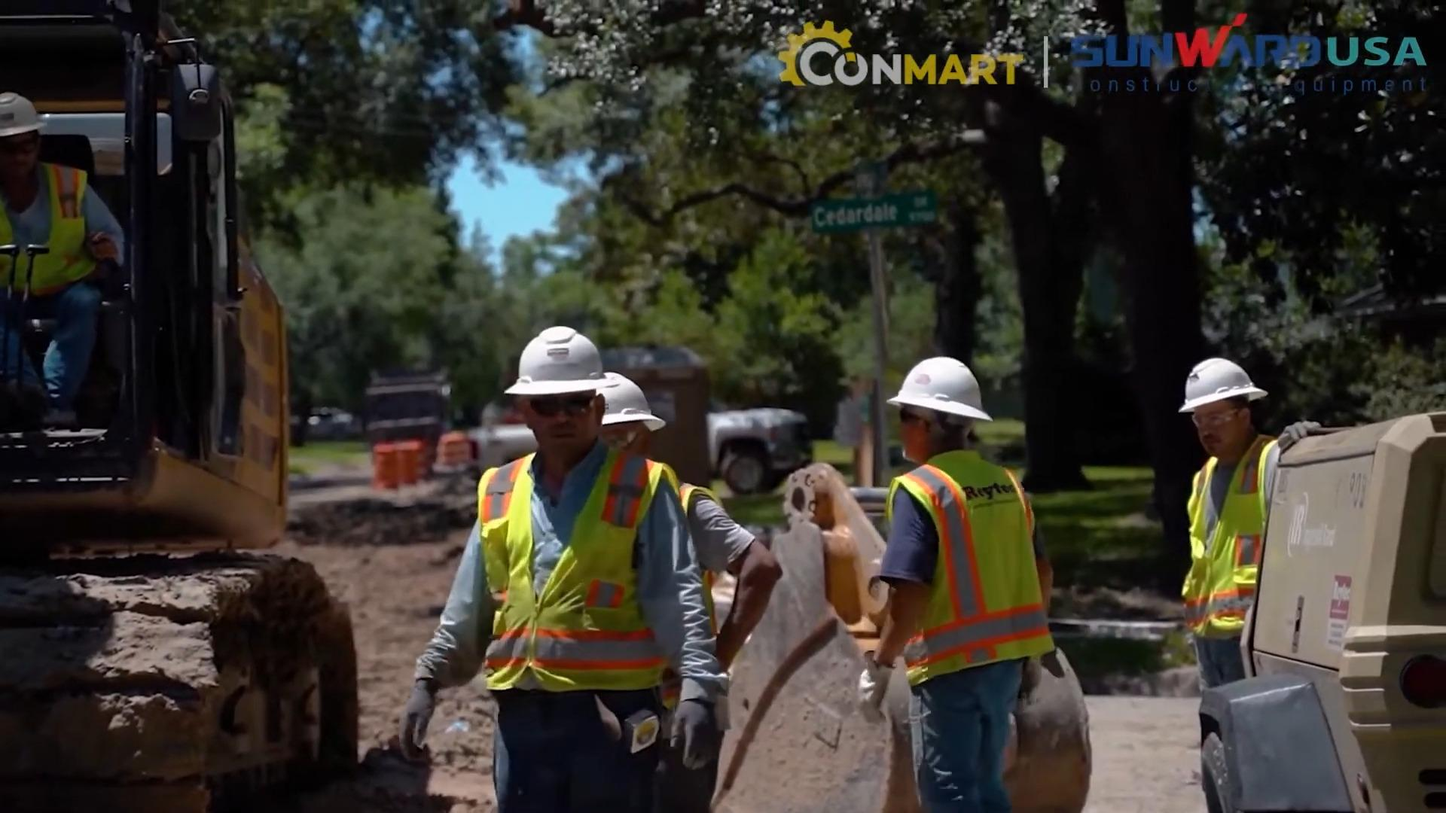Gloves: (381, 691, 453, 746), (663, 693, 719, 759), (859, 662, 891, 723), (1283, 416, 1323, 444)
Helmet: (505, 329, 607, 397), (894, 367, 1003, 428), (1177, 357, 1268, 413), (593, 370, 667, 431), (0, 90, 47, 137)
Person: (398, 324, 731, 811), (840, 343, 1070, 811), (1121, 329, 1317, 797), (0, 90, 126, 429)
Safety Vest: (483, 468, 666, 704), (908, 486, 1055, 679), (0, 174, 104, 298), (1191, 486, 1267, 639)
bare-arms: (79, 218, 124, 263)
